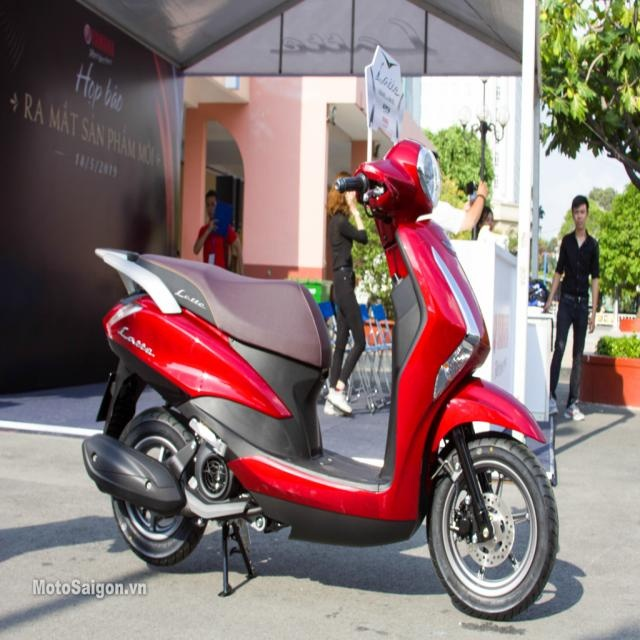Motorcycle: (79, 38, 569, 625)
